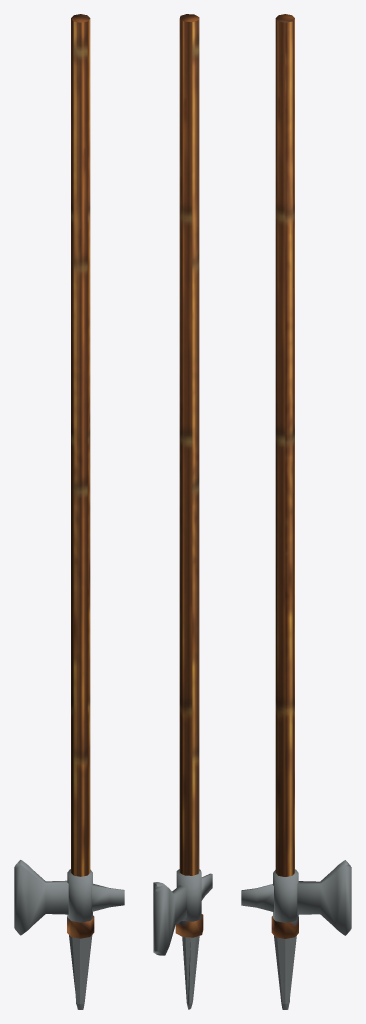
The model's file is inca_alabarda.dae.
The picture shows the model from 3 angles, left to right: view 1: azimuth 90°, elevation 25°; view 2: azimuth 150°, elevation 25°; view 3: azimuth 270°, elevation 25°; orthographic projection.
Parts seen in each view (by area): view 1: alabardasimples; view 2: alabardasimples; view 3: alabardasimples.
Part boxes in pixels (x1,y1,x2,y2): alabardasimples: [14, 14, 124, 1009]; alabardasimples: [153, 14, 212, 1009]; alabardasimples: [241, 14, 351, 1009].
Bounding box in the file's own units: 0.1591 × 0.6043 × 6.
